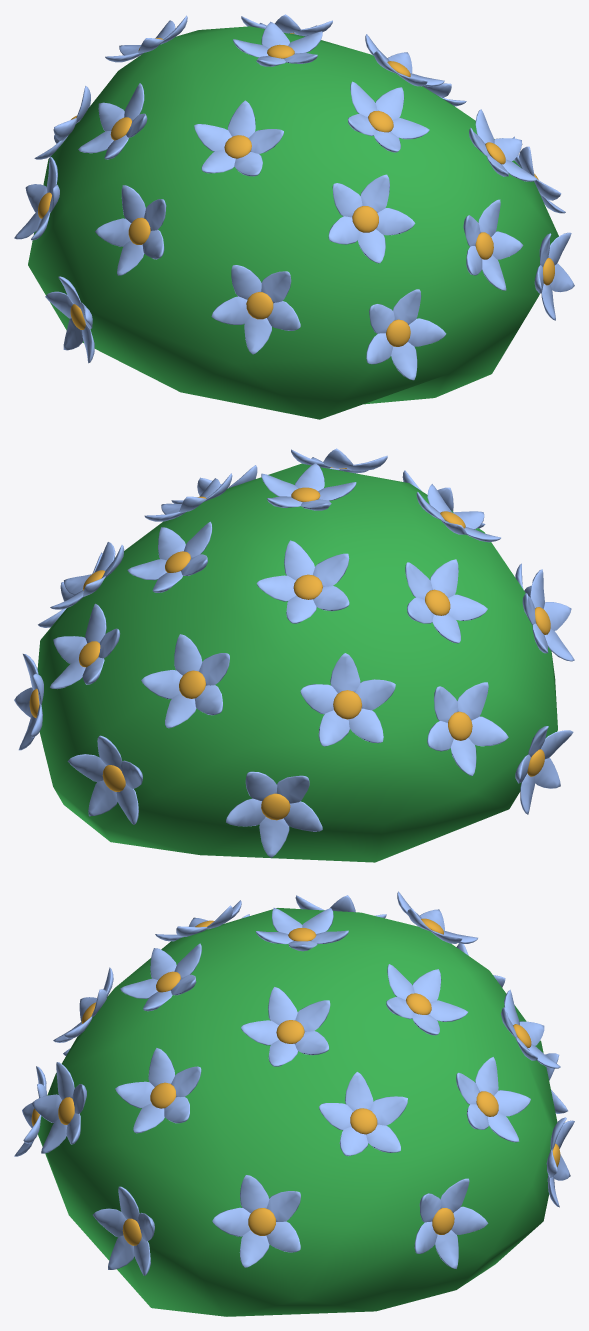
The model's file is bush2.fbx.
The picture shows the model from 3 angles, top to bottom: view 1: azimuth 30°, elevation 25°; view 2: azimuth 150°, elevation 25°; view 3: azimuth 270°, elevation 25°; orthographic projection. The views are drawn at different scales.
Visible parts, largest first — view 1: Sphere.007, NurbsPath.014, NurbsPath.012, NurbsPath.022, NurbsPath.013, NurbsPath.016, NurbsPath.008, NurbsPath.009, NurbsPath.015, NurbsPath.001, NurbsPath.007, NurbsPath.024 (+11 smaller); view 2: Sphere.007, NurbsPath.018, NurbsPath.020, NurbsPath.003, NurbsPath.002, NurbsPath.017, NurbsPath.015, NurbsPath.019, NurbsPath.005, NurbsPath.004, NurbsPath.001, NurbsPath.024 (+12 smaller); view 3: Sphere.007, NurbsPath.011, NurbsPath.010, NurbsPath.006, NurbsPath.007, NurbsPath.023, NurbsPath.005, NurbsPath.004, NurbsPath.021, NurbsPath.008, NurbsPath.009, NurbsPath.001 (+11 smaller).
Part boxes in pixels (x1=…): Sphere.007: x1=28, y1=26, x2=558, y2=419; NurbsPath.014: x1=211, y1=265, x2=300, y2=354; NurbsPath.012: x1=328, y1=174, x2=415, y2=263; NurbsPath.022: x1=366, y1=289, x2=446, y2=380; NurbsPath.013: x1=194, y1=100, x2=283, y2=176; NurbsPath.016: x1=95, y1=185, x2=166, y2=275; NurbsPath.008: x1=348, y1=81, x2=429, y2=152; NurbsPath.009: x1=463, y1=199, x2=523, y2=290; NurbsPath.015: x1=78, y1=83, x2=147, y2=159; NurbsPath.001: x1=233, y1=21, x2=322, y2=66; NurbsPath.007: x1=469, y1=109, x2=537, y2=181; NurbsPath.024: x1=45, y1=276, x2=94, y2=363; Sphere.007: x1=37, y1=463, x2=557, y2=862; NurbsPath.018: x1=300, y1=653, x2=395, y2=746; NurbsPath.020: x1=226, y1=771, x2=322, y2=857; NurbsPath.003: x1=141, y1=634, x2=229, y2=728; NurbsPath.002: x1=256, y1=540, x2=349, y2=623; NurbsPath.017: x1=427, y1=682, x2=508, y2=775; NurbsPath.015: x1=405, y1=559, x2=487, y2=643; NurbsPath.019: x1=67, y1=735, x2=142, y2=824; NurbsPath.005: x1=50, y1=603, x2=120, y2=688; NurbsPath.004: x1=127, y1=521, x2=212, y2=592; NurbsPath.001: x1=261, y1=463, x2=356, y2=510; NurbsPath.024: x1=515, y1=726, x2=573, y2=814; Sphere.007: x1=38, y1=908, x2=557, y2=1316; NurbsPath.011: x1=212, y1=1175, x2=300, y2=1267; NurbsPath.010: x1=319, y1=1072, x2=407, y2=1156; NurbsPath.006: x1=241, y1=987, x2=330, y2=1066; NurbsPath.007: x1=115, y1=1048, x2=201, y2=1133; NurbsPath.023: x1=414, y1=1178, x2=488, y2=1268; NurbsPath.005: x1=456, y1=1057, x2=530, y2=1142; NurbsPath.004: x1=386, y1=964, x2=467, y2=1035; NurbsPath.021: x1=93, y1=1186, x2=154, y2=1275; NurbsPath.008: x1=120, y1=943, x2=201, y2=1011; NurbsPath.009: x1=31, y1=1062, x2=86, y2=1153; NurbsPath.001: x1=256, y1=908, x2=348, y2=951.
Size of the model in its own units: 327 by 201 by 324.
